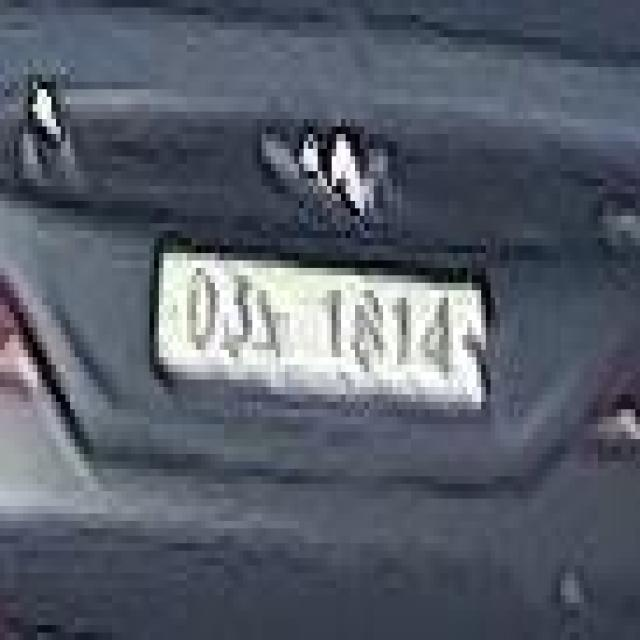illegal_plate: (153, 238, 494, 421)
